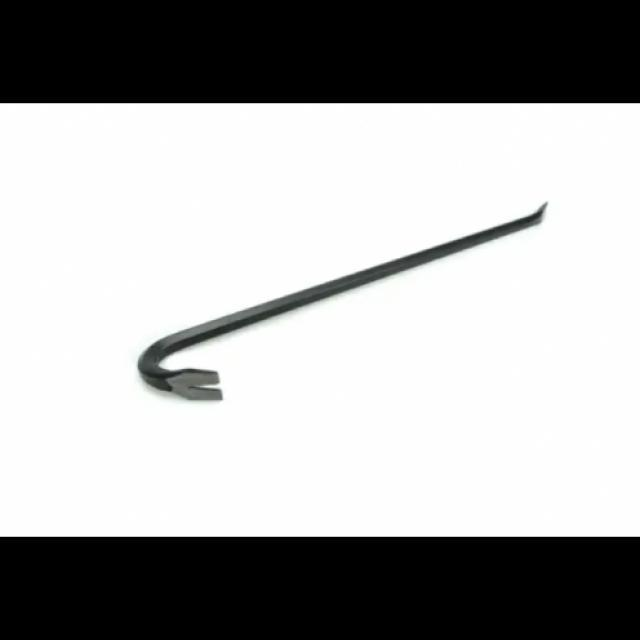Linggis: (98, 192, 554, 412)
